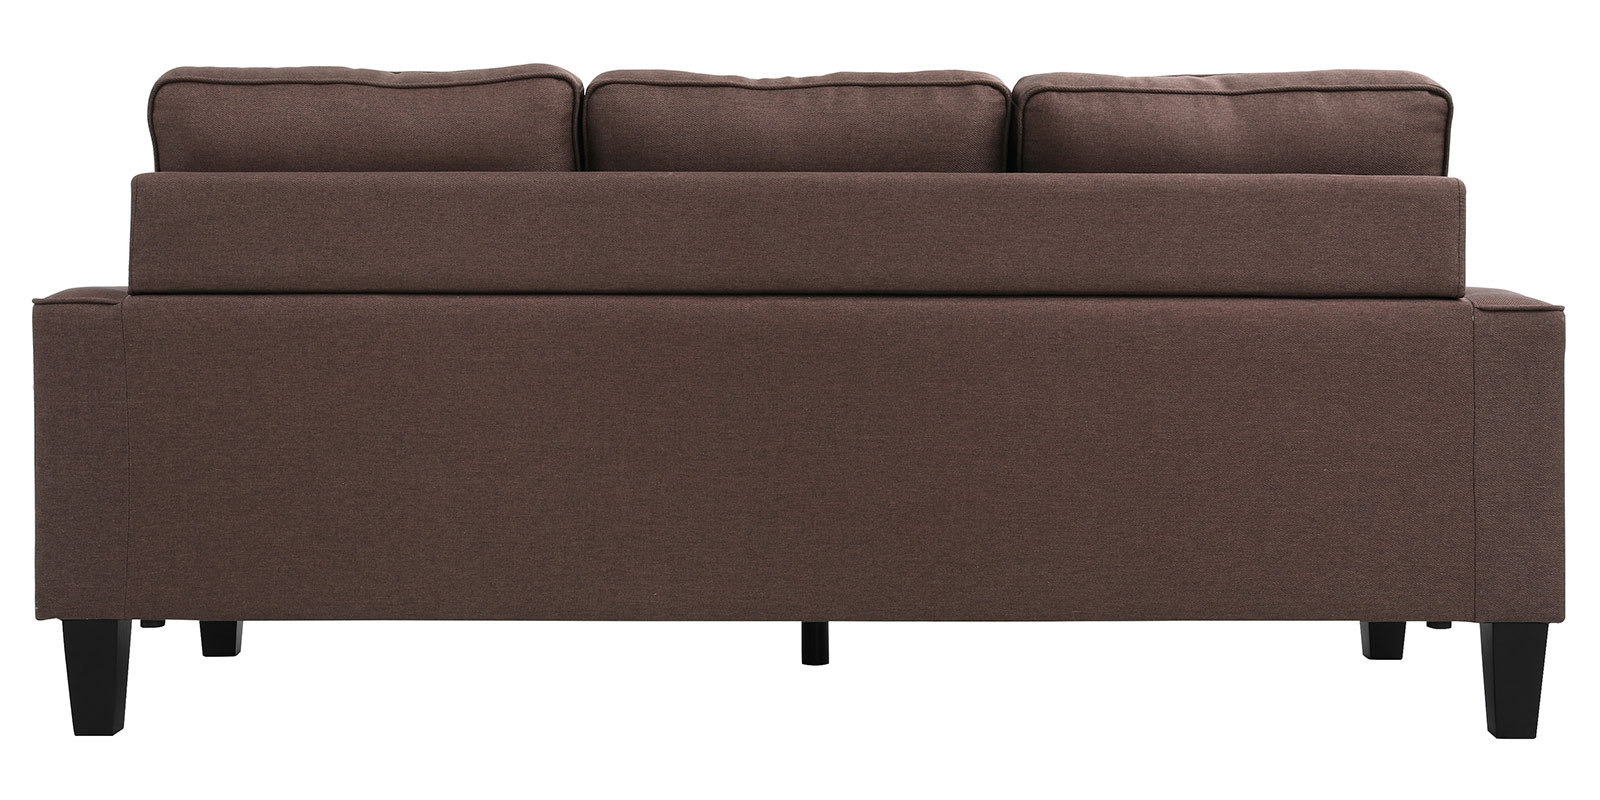Alice Three Seater Sofa in Brown Colour by Zofa: (17, 46, 1578, 763)
